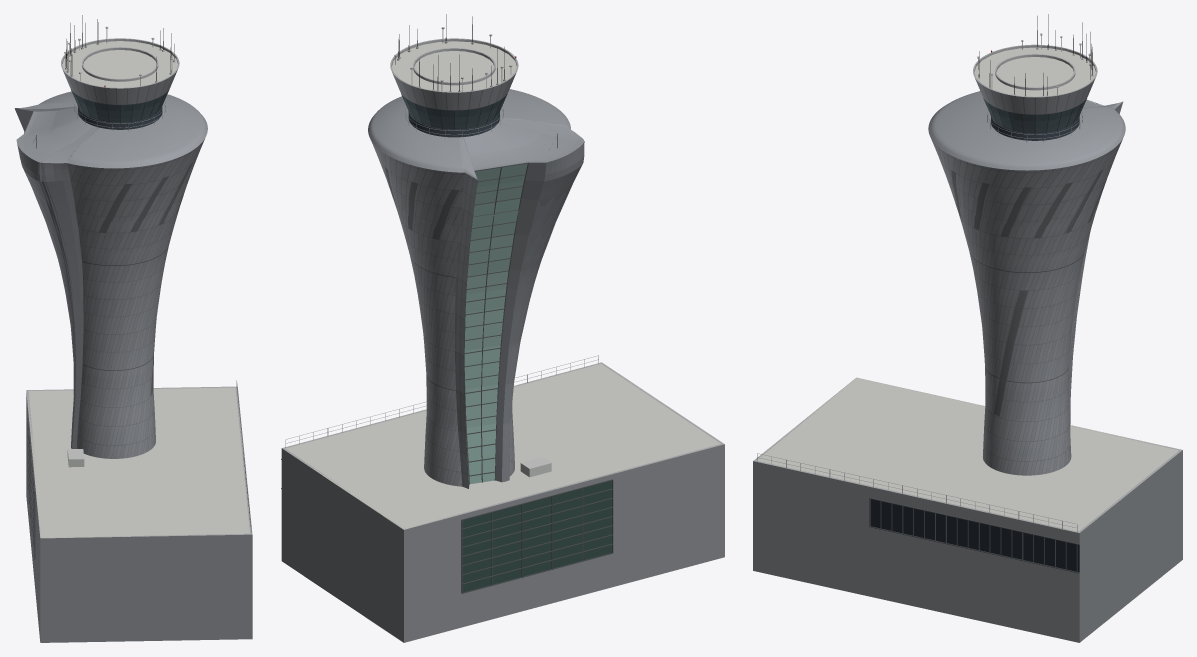
File: tower_f1.glb
3 views of the same model, side by side, from view 1: azimuth 30°, elevation 25°; view 2: azimuth 150°, elevation 25°; view 3: azimuth 270°, elevation 25° (orthographic). The views are drawn at different scales.
Parts seen in each view (by area): view 1: L2_ibf, L0_ibf, L2_shaft, L0_shaft, L0_flare_deck, L0_cab, L1_shaft, L0_landside, L2_landside, L2_cab, L1_cab, L2_flare_deck (+6 smaller); view 2: L0_ibf, L2_ibf, L2_ribbon, L2_landside, L0_cab, L2_shaft, L0_flare_deck, L0_shaft, L0_landside, L0_ibf_mullions, L2_flare_deck, L1_shaft (+9 smaller); view 3: L0_ibf, L2_ibf, L2_shaft, L0_shaft, L0_flare_deck, L0_cab, L1_shaft, L1_cab, L2_cab, L0_ibf_mullions, L0_cab_glass, L1_cab_glass (+2 smaller).
Boxes of the visible parts, x1,y1,x2,y2 form: L2_ibf: (26,386,251,538); L0_ibf: (26,386,252,642); L2_shaft: (67,141,203,458); L0_shaft: (67,139,204,458); L0_flare_deck: (15,91,207,168); L0_cab: (61,38,179,129); L1_shaft: (72,154,198,444); L0_landside: (15,108,83,448); L2_landside: (14,108,83,448); L2_cab: (62,38,178,122); L1_cab: (61,38,179,122); L2_flare_deck: (20,105,98,162); L0_ibf: (281,362,724,642); L2_ibf: (285,363,720,529); L2_ribbon: (464,163,527,427); L2_landside: (455,149,577,465); L0_cab: (390,38,518,137); L2_shaft: (373,145,514,485); L0_flare_deck: (368,89,583,179); L0_shaft: (371,140,514,486); L0_landside: (455,142,584,488); L0_ibf_mullions: (281,459,613,593); L2_flare_deck: (466,118,583,177); L1_shaft: (376,152,512,486); L0_ibf: (753,377,1182,642); L2_ibf: (755,377,1179,531); L2_shaft: (932,141,1121,475); L0_shaft: (931,139,1122,475); L0_flare_deck: (928,91,1125,170); L0_cab: (973,44,1097,140); L1_shaft: (937,149,1117,419); L1_cab: (973,45,1097,133); L2_cab: (973,45,1096,133); L0_ibf_mullions: (869,497,1079,573); L0_cab_glass: (983,98,1086,133); L1_cab_glass: (984,99,1085,132).
Bounding box in the file's own units: 45.01 × 72.06 × 52.4.
Materials: 59 (6 with a texture image).
